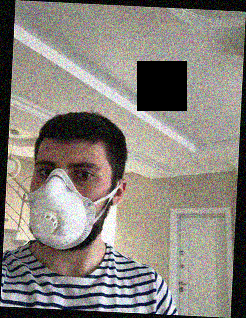with_mask: (27, 154, 109, 252)
